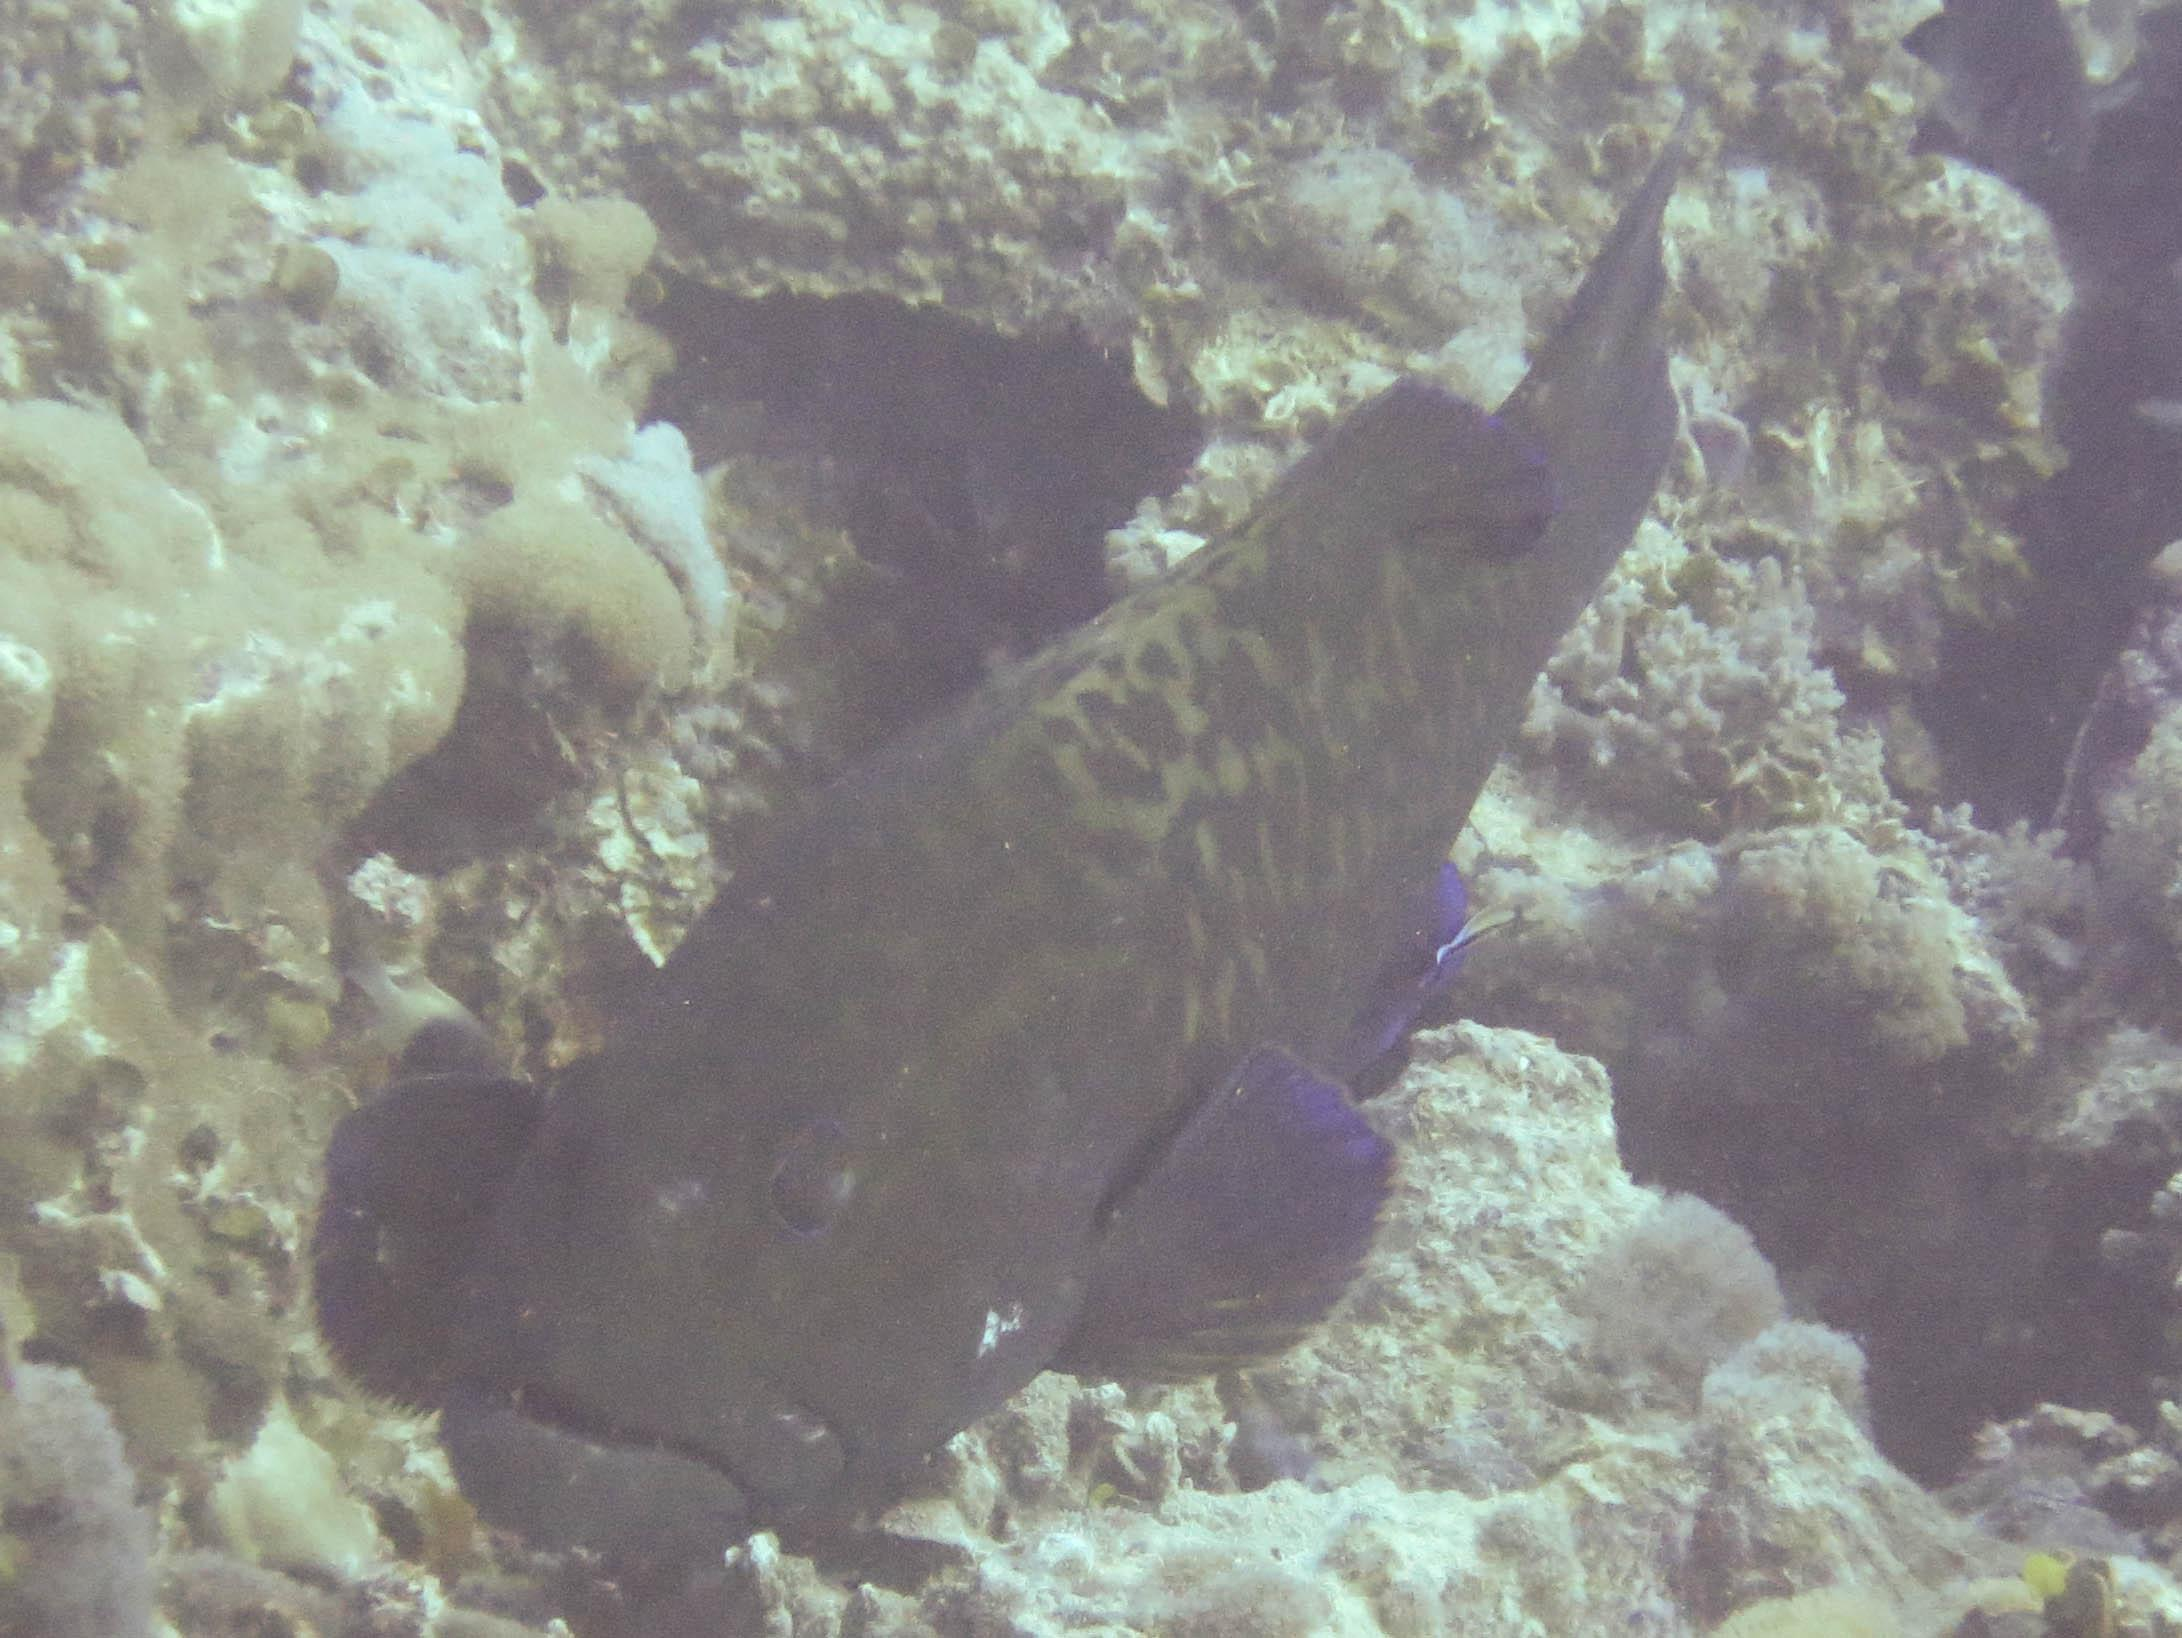Fish: (336, 60, 1731, 1540)
